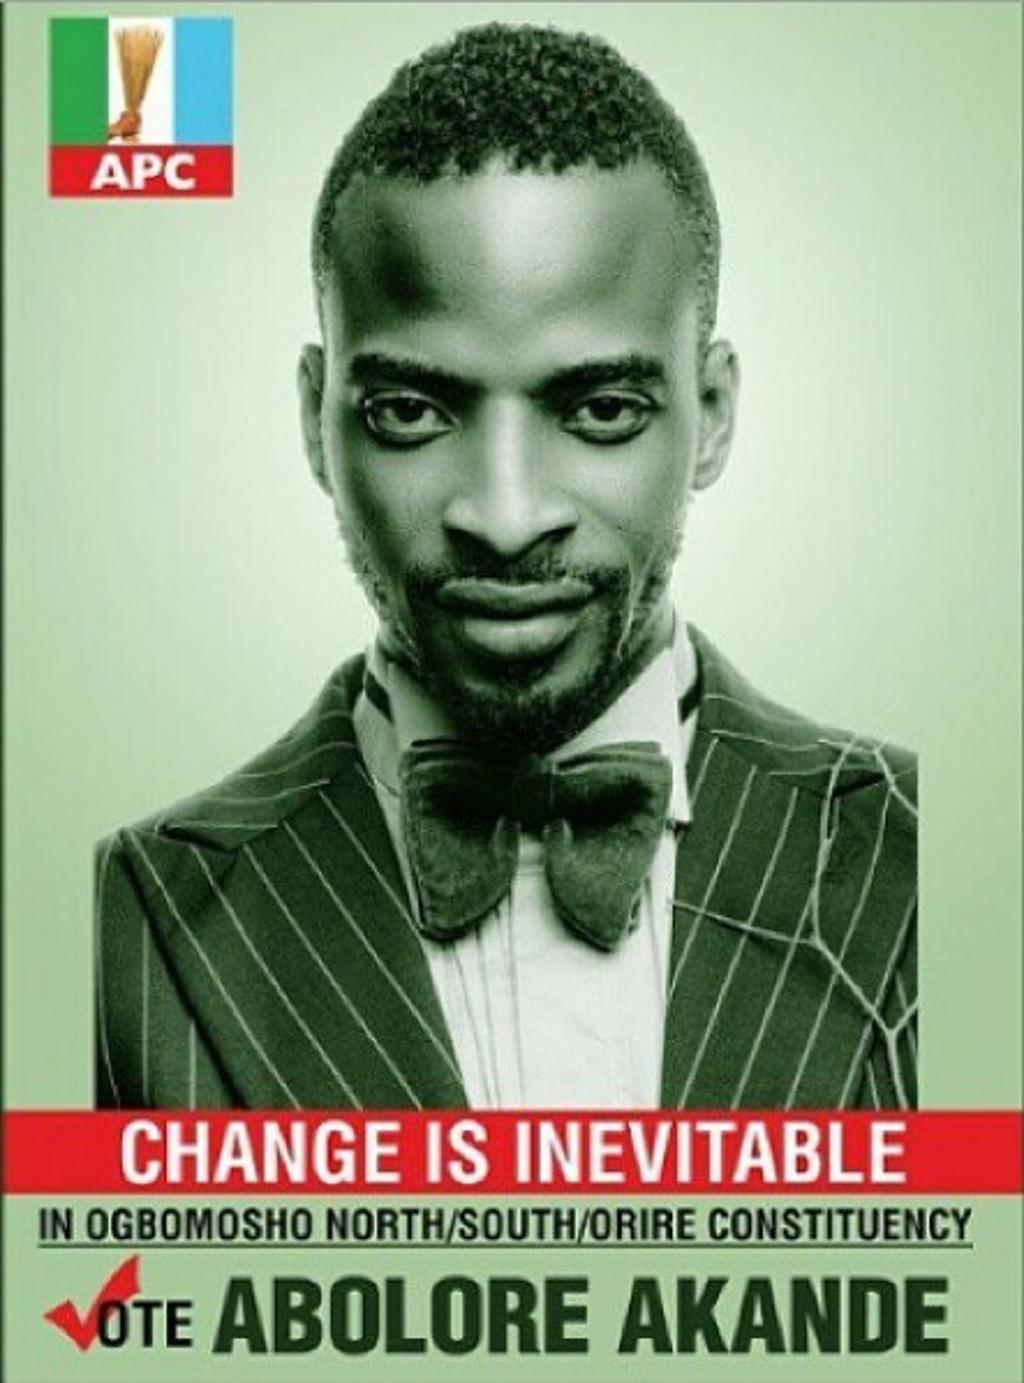face: (320, 171, 701, 728)
